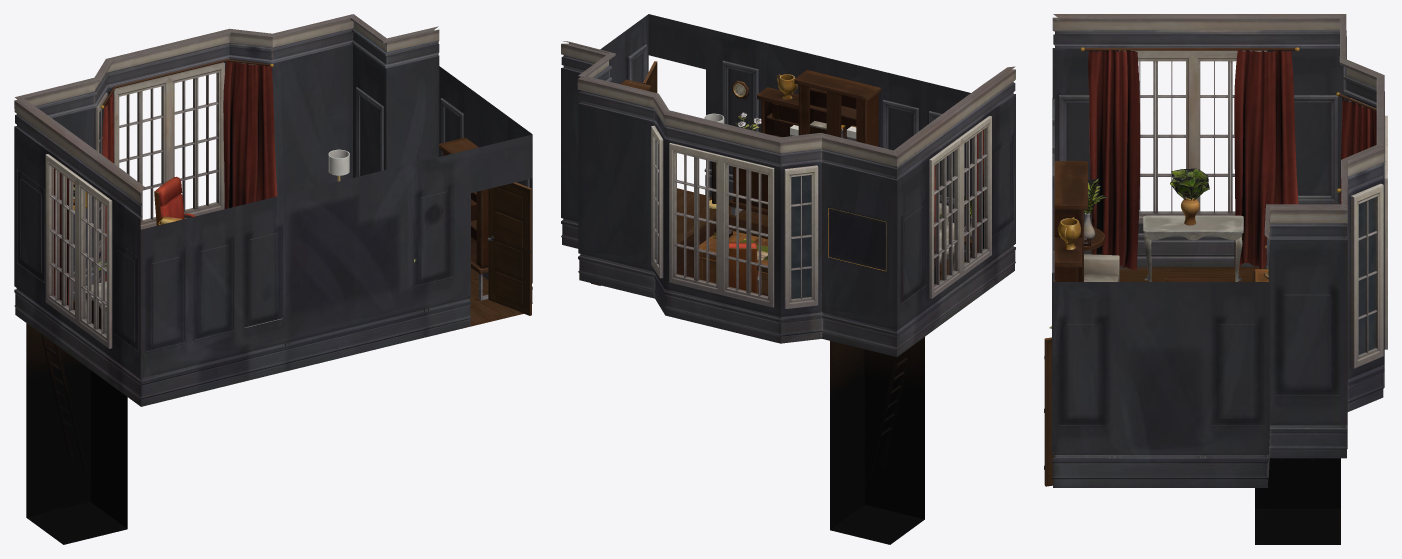
File: study.obj
The picture shows the model from 3 angles, left to right: view 1: azimuth 30°, elevation 25°; view 2: azimuth 150°, elevation 25°; view 3: azimuth 270°, elevation 25°; orthographic projection. The views are drawn at different scales.
Visible parts, largest first — view 1: study_walls_5003, study_props_1568, study_door_569, study_props_7693; view 2: study_walls_5003, study_props_7693, study_props_1252, study_props_1568; view 3: study_walls_5003, study_props_1568, study_props_7693, study_plants_530, study_door_569.
Part boxes in pixels (bbox=[...]): study_walls_5003: bbox=[14, 14, 532, 544]; study_props_1568: bbox=[54, 61, 277, 305]; study_door_569: bbox=[487, 182, 531, 315]; study_props_7693: bbox=[73, 59, 488, 345]; study_walls_5003: bbox=[561, 14, 1015, 544]; study_props_7693: bbox=[620, 70, 971, 293]; study_props_1252: bbox=[712, 87, 965, 238]; study_props_1568: bbox=[934, 129, 983, 284]; study_walls_5003: bbox=[1052, 14, 1387, 544]; study_props_1568: bbox=[1088, 49, 1376, 270]; study_props_7693: bbox=[1054, 47, 1376, 458]; study_plants_530: bbox=[1049, 168, 1209, 328]; study_door_569: bbox=[1044, 337, 1053, 486].
Size of the model in its own units: 6.86 by 6.99 by 4.46.
